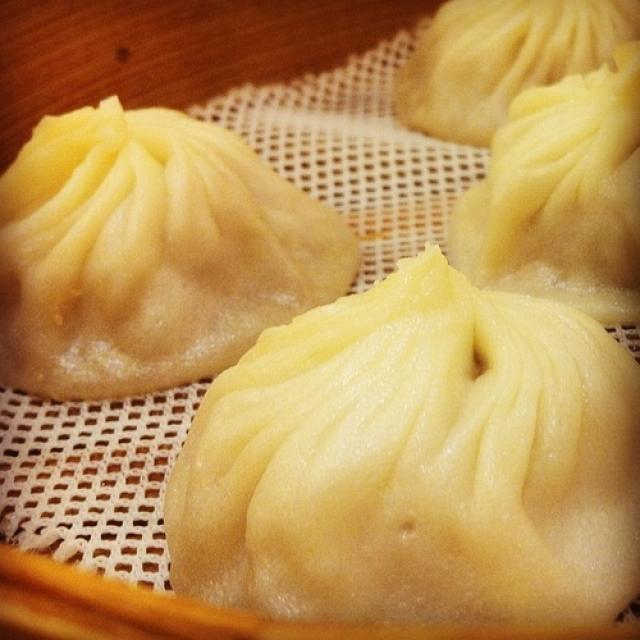带馅早点: (22, 28, 616, 629)
